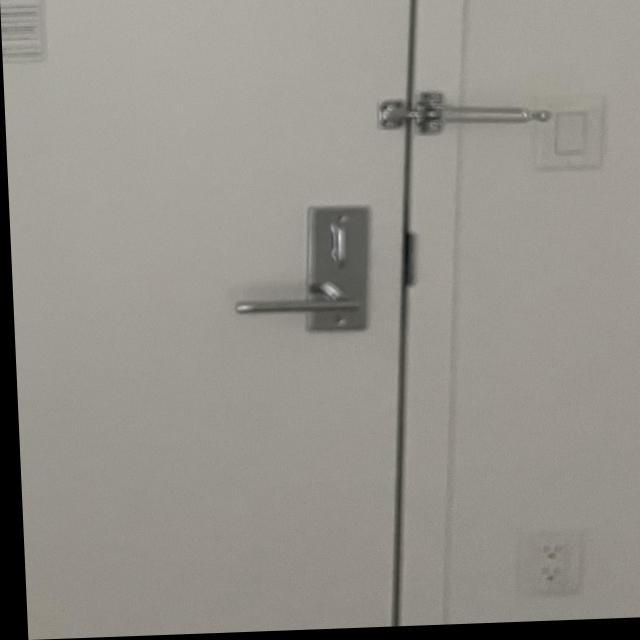door_handle: (223, 276, 385, 341)
